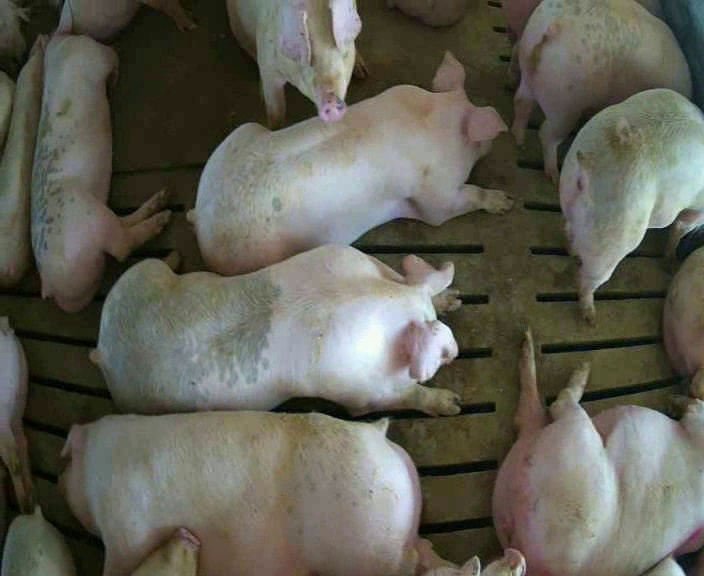pig: (187, 52, 511, 273), (62, 411, 458, 575), (89, 245, 461, 414), (493, 330, 703, 574), (31, 32, 169, 311), (560, 90, 703, 322), (512, 2, 690, 182), (227, 2, 367, 127), (0, 35, 48, 285), (664, 247, 703, 399), (2, 506, 75, 575)
